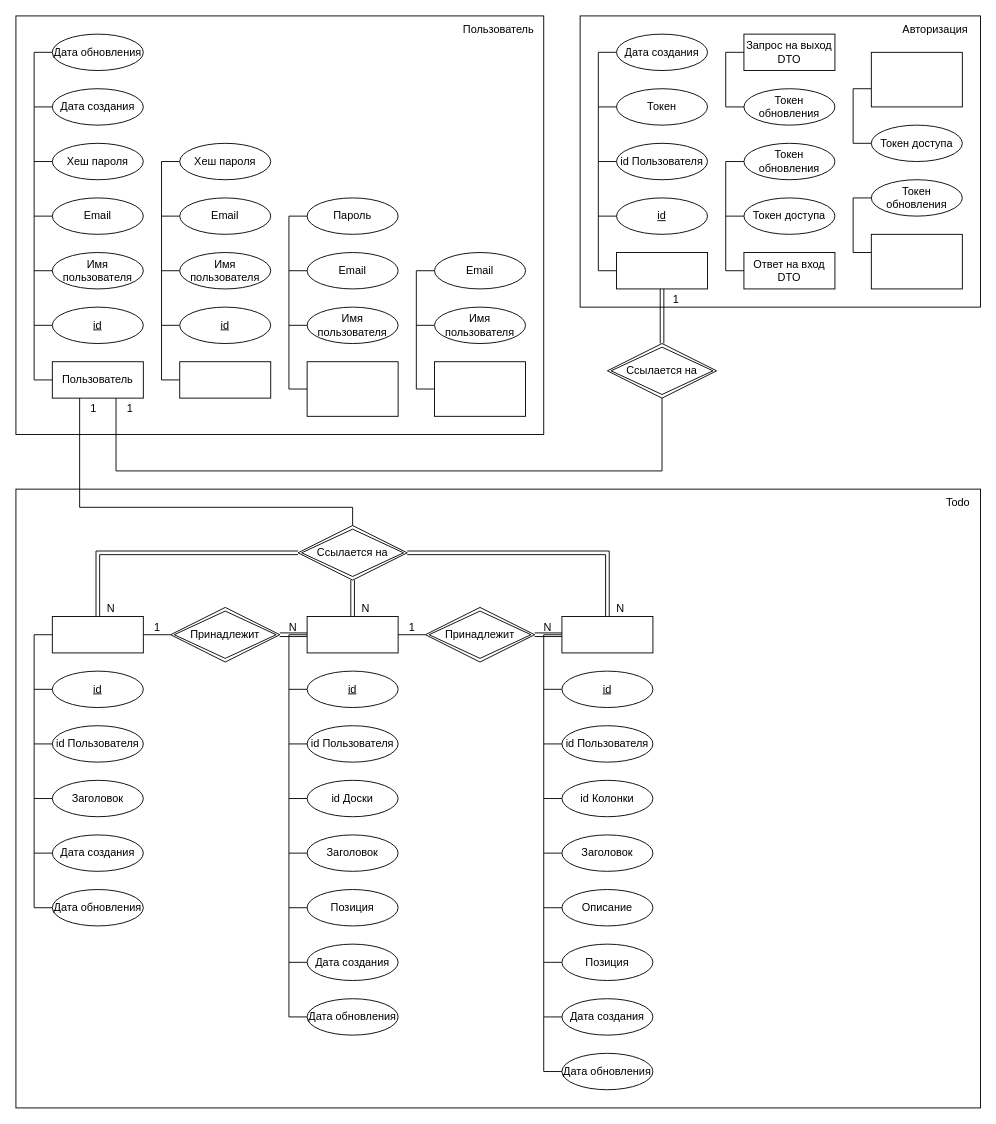
The diagram is 996 pixels wide and 1124 high, and some of its shapes have lost their labels. The centre of each missing label's shape, as x and y in pixels:
Доска: the point at 97,634
Запрос на обновление токена обновления DTO: the point at 916,261
Карточка: the point at 607,634
Колонка: the point at 352,634
Обновить пользователя DTO: the point at 480,388
Ответ на обновление токена обновления DTO: the point at 916,79
Пользователь DTO: the point at 225,379
Создать пользователя DTO: the point at 352,388
Токен (обновления): the point at 662,270
